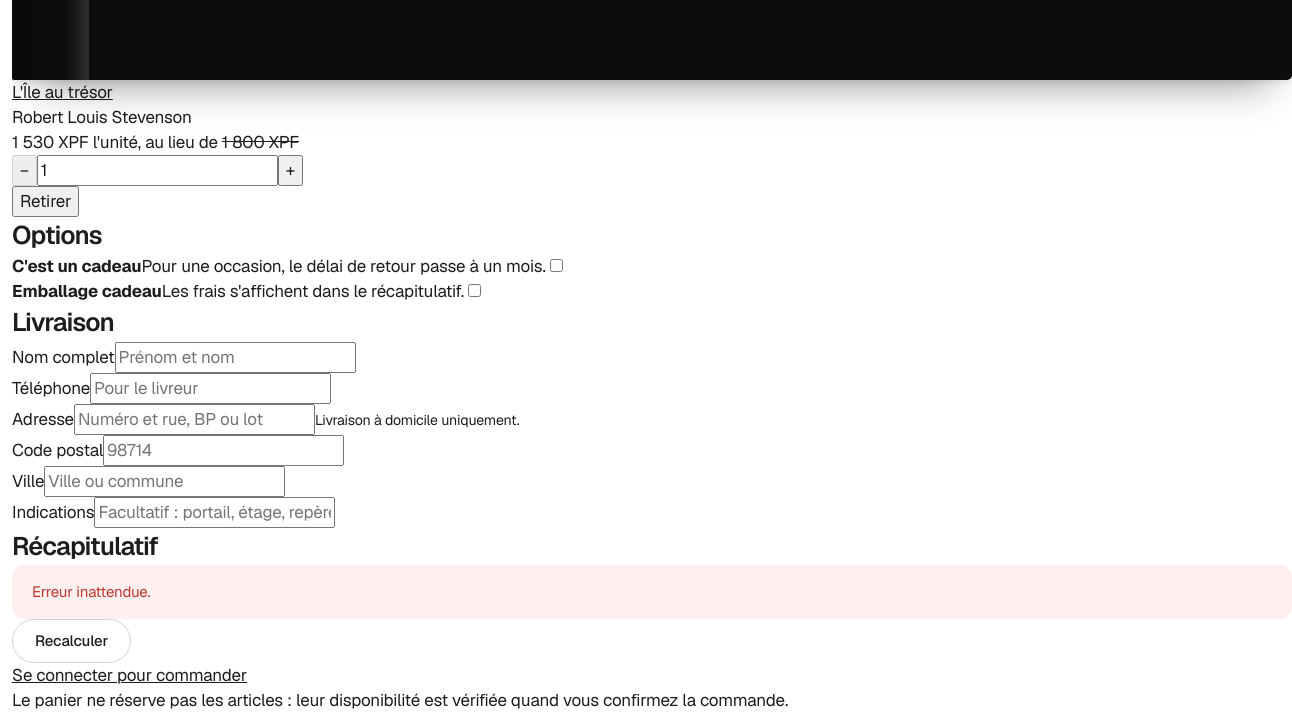
Scenario: page Panier › propose de recalculer si le devis échoue
(page scrolled)
Check: the message reads "Erreur inattendue.", box [32,582,150,601]
What coordinates should you click on to do the following:
click the button "Recalculer"
I would click on:
 (72, 641)
Its box is [12,619,131,663].
(page scrolled)
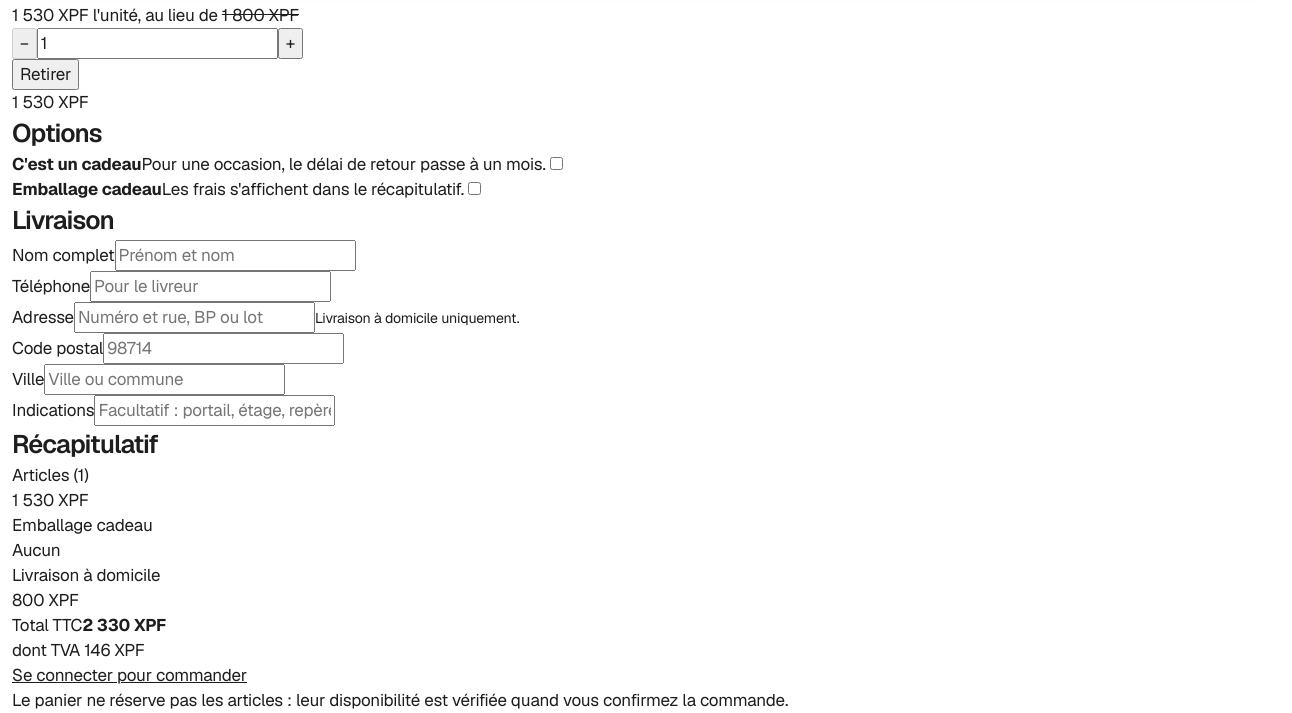
Check: the text "2 330 XPF" is shown, box [82,614,166,636]
